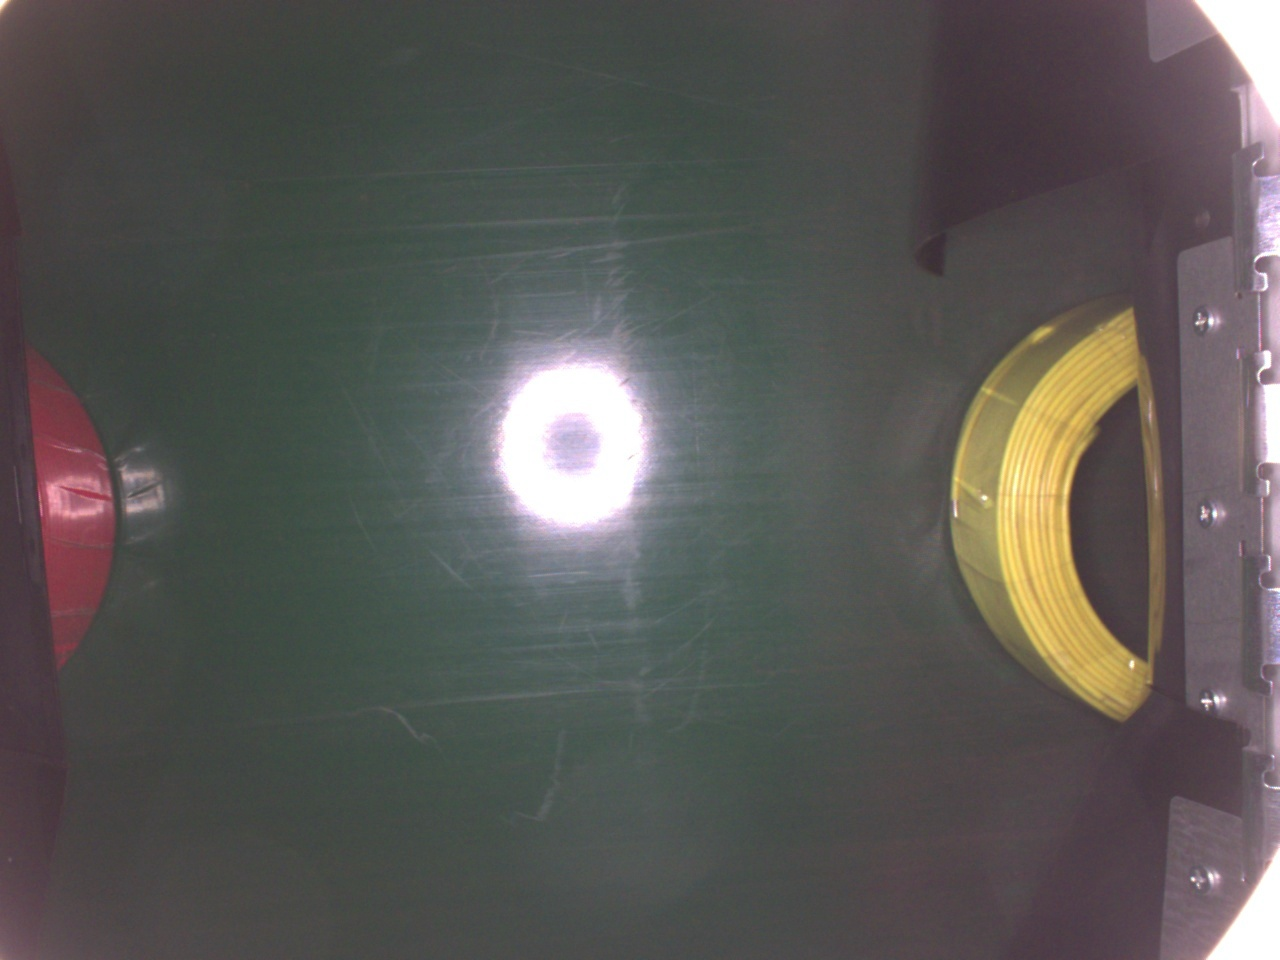yellow: (947, 297, 1151, 724)
